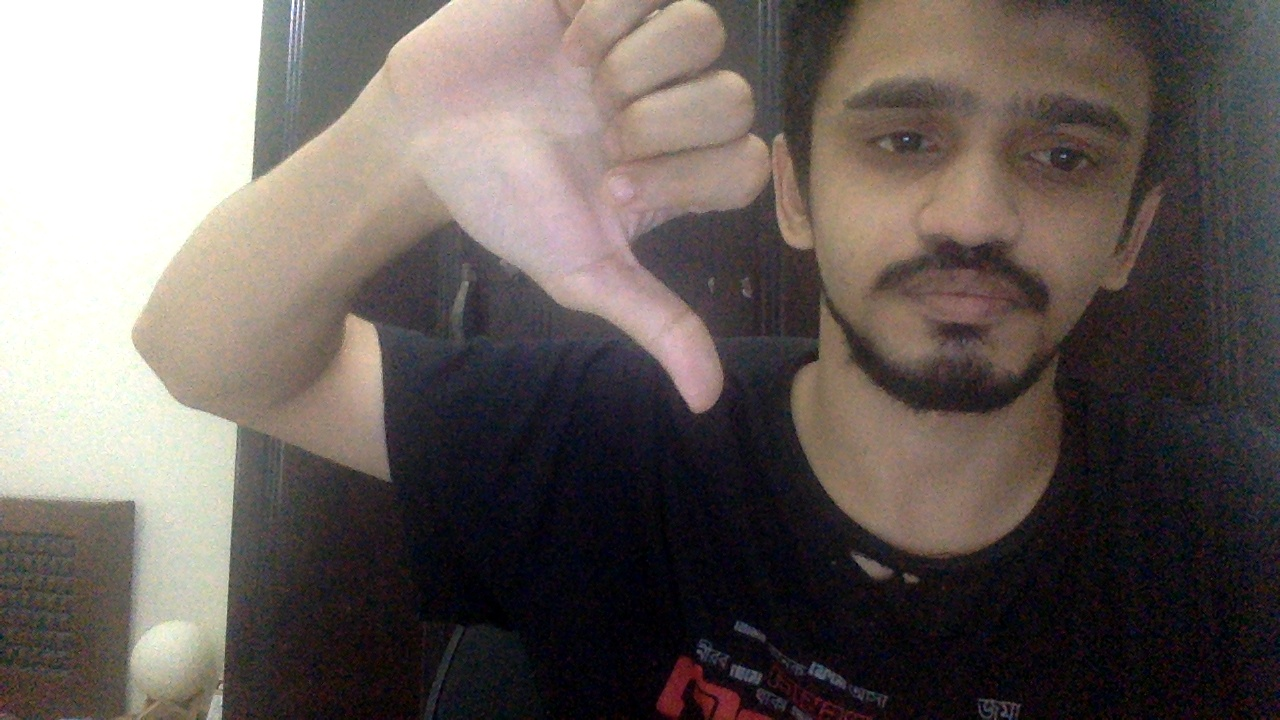bad: (381, 1, 770, 414)
